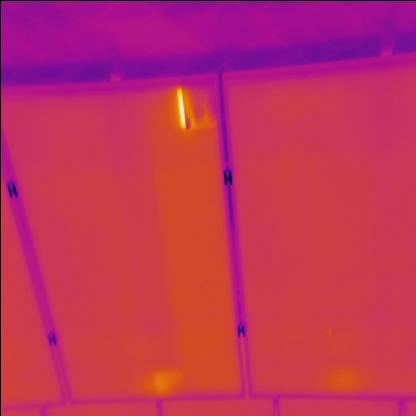hotspot: (172, 75, 218, 131)
